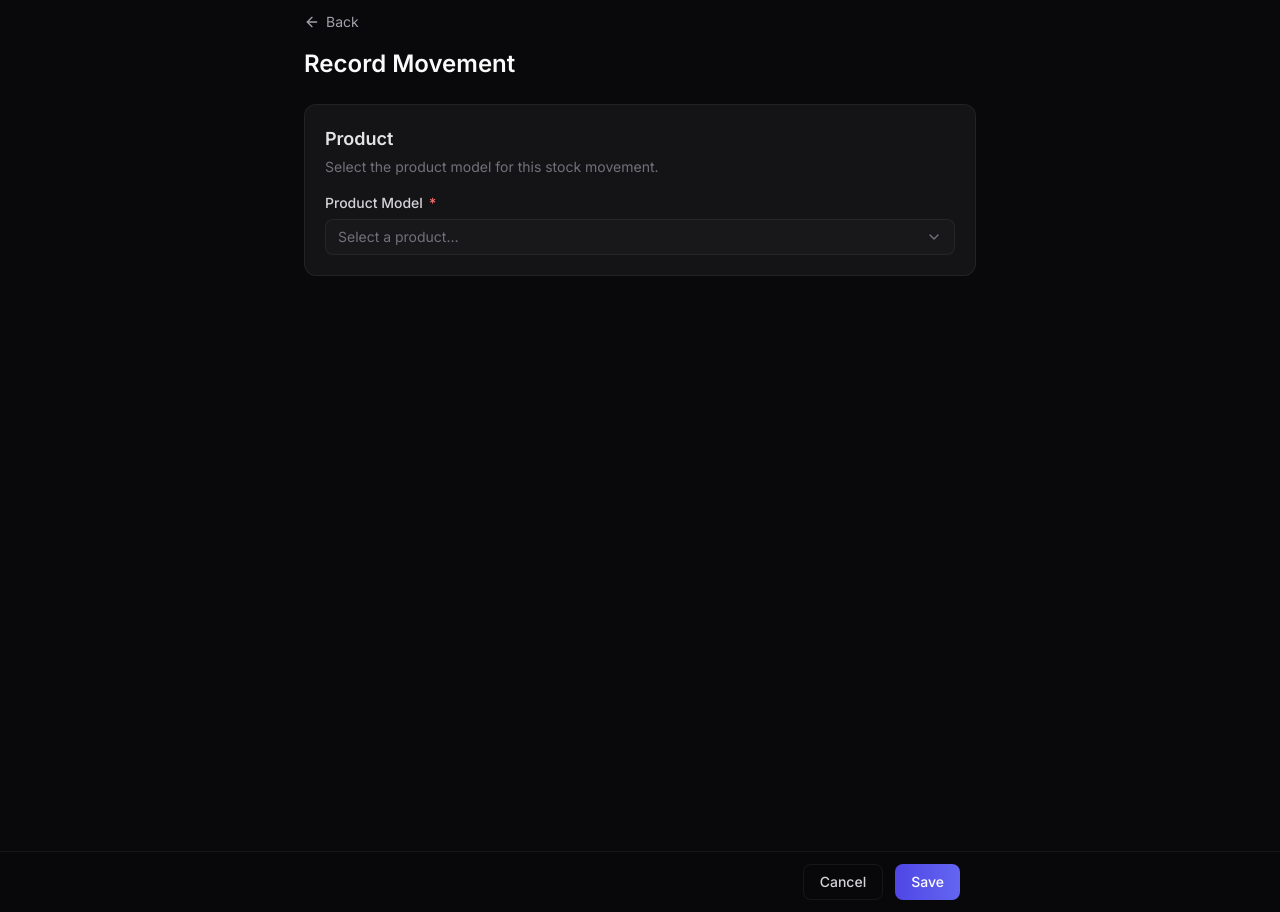
MovementCreate tracker branch (TRACKER-STATUS-04) › gates submit and hides picker when current status has empty transition list
The width and height of the screenshot is (1280, 912).
Click the dropdown.
click(398, 236)  # box [325,219,955,255]
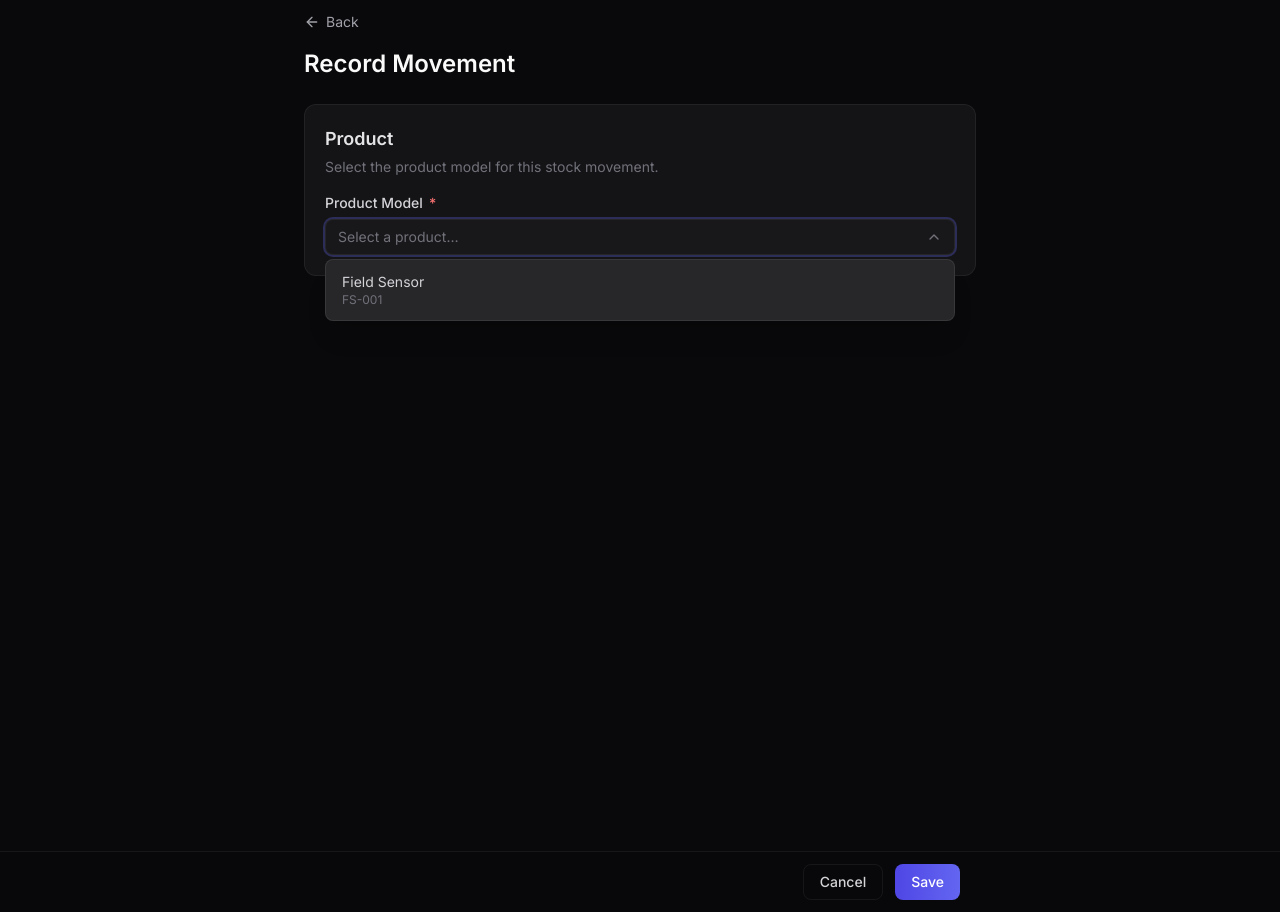
Click the text "Field Sensor".
click(383, 282)  # box [342,272,424,292]
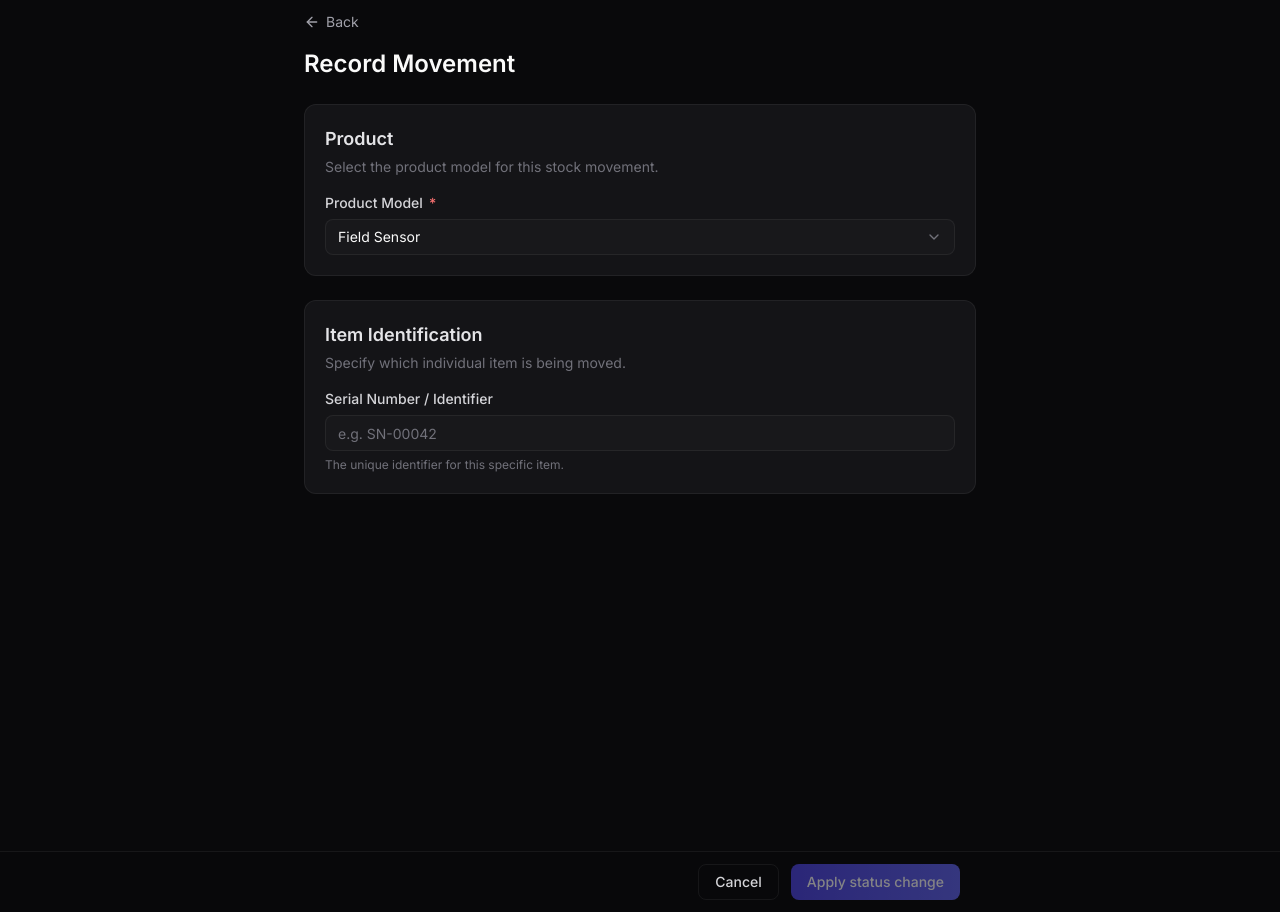
Type "SN-1" into the field.
click(640, 433); type("SN-1")  # box [325,415,955,451]
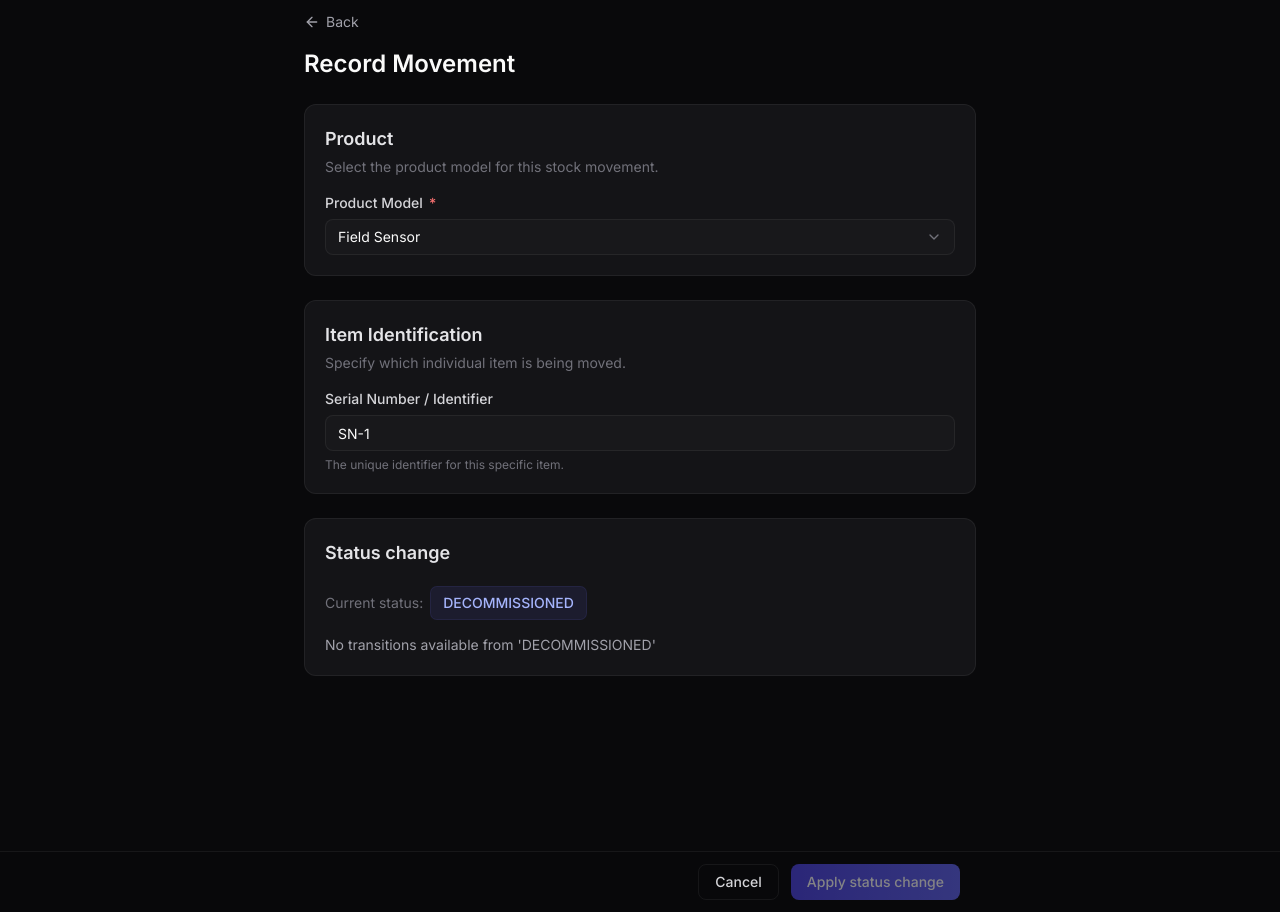
Expected: the button "Apply status change" is disabled, [791,864,960,900]
Expected: the text "No transitions available from 'DECOMMISSIONED'" is shown, [325,636,656,653]
